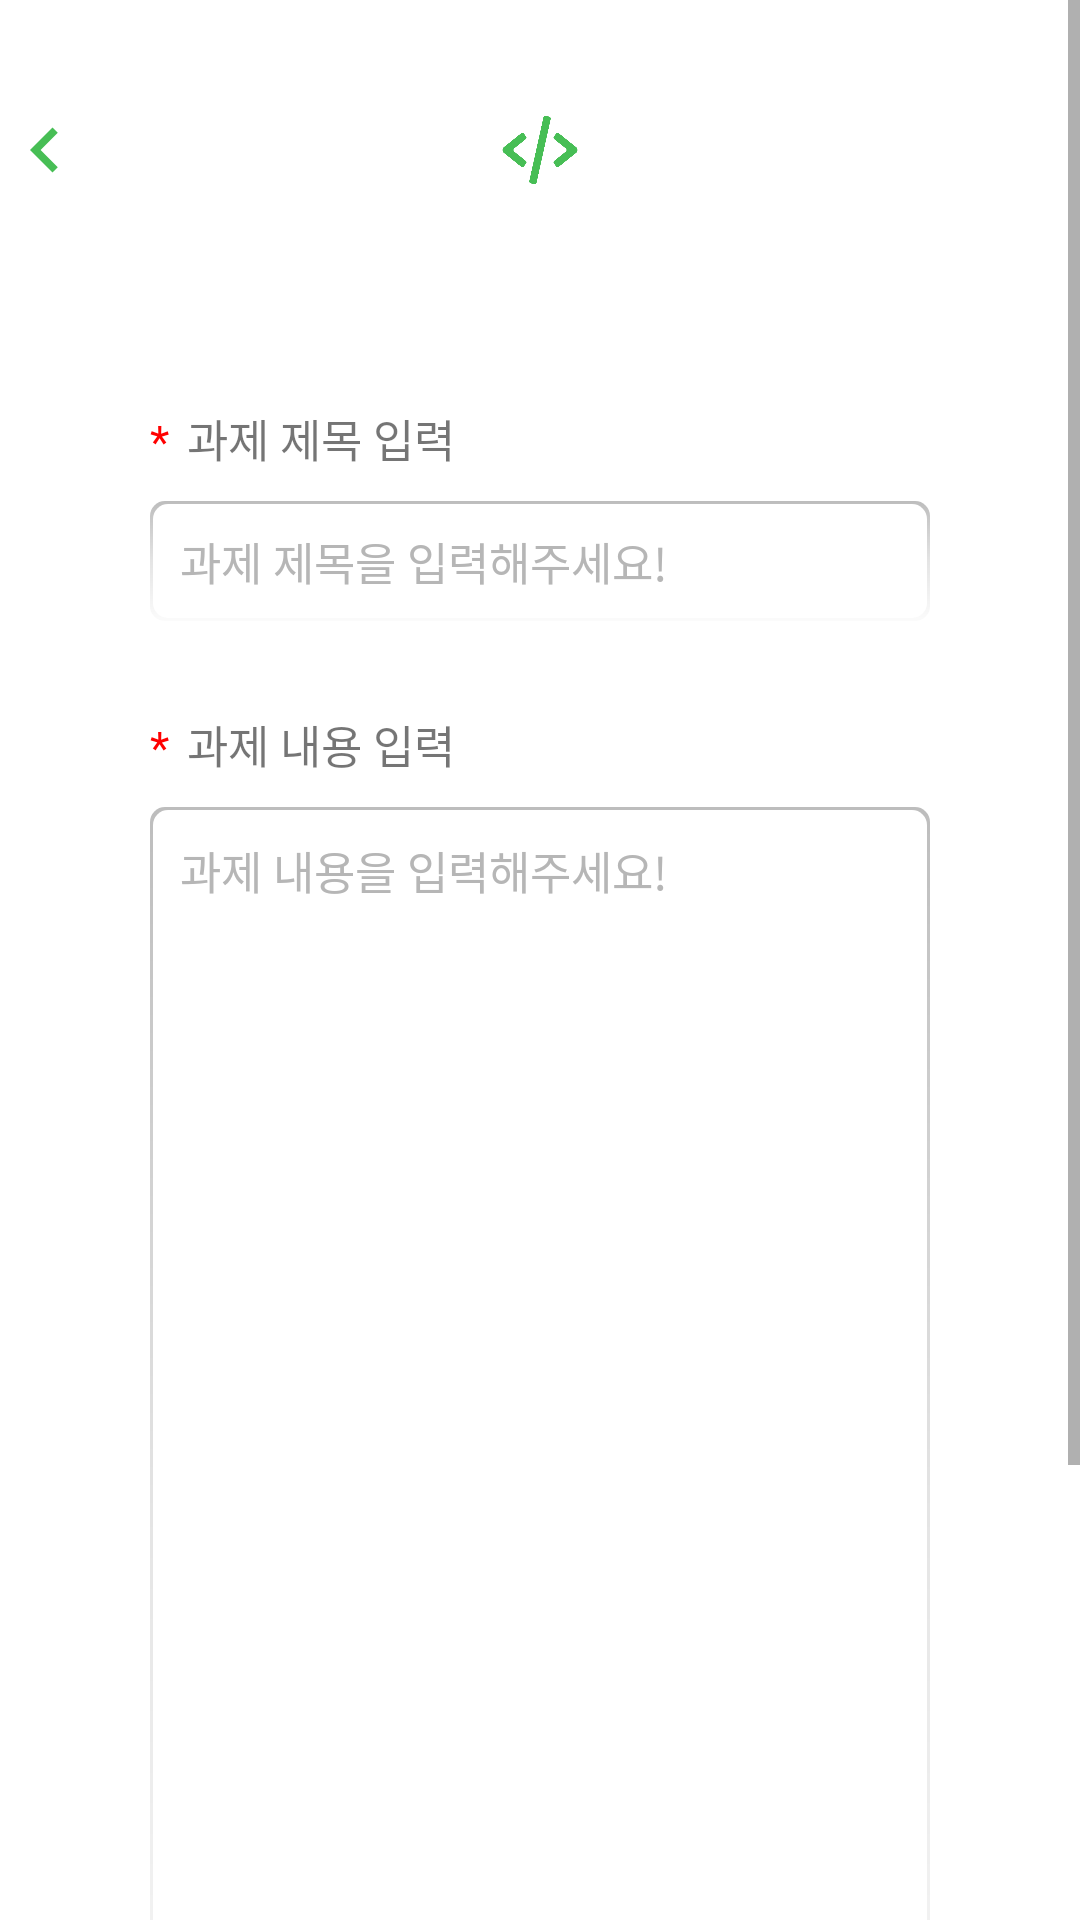

Named icons in this screenshot (1080×1920) and their bounding boxes, (x1, y1, x2, y2):
navigate before: (30, 127, 58, 173)
